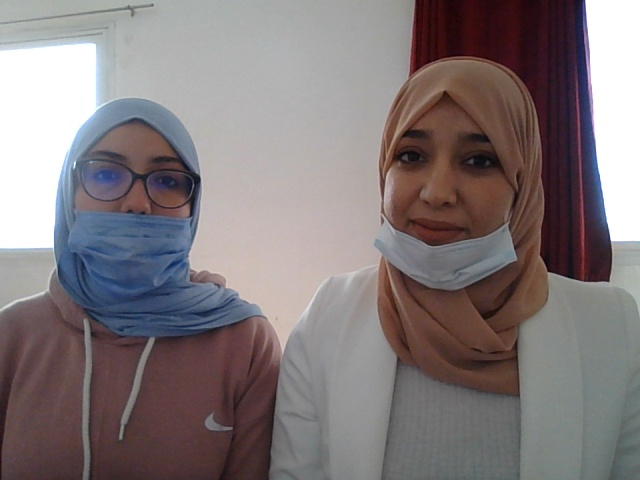mask_weared_incorrect: (357, 57, 553, 315), (42, 99, 202, 304)
